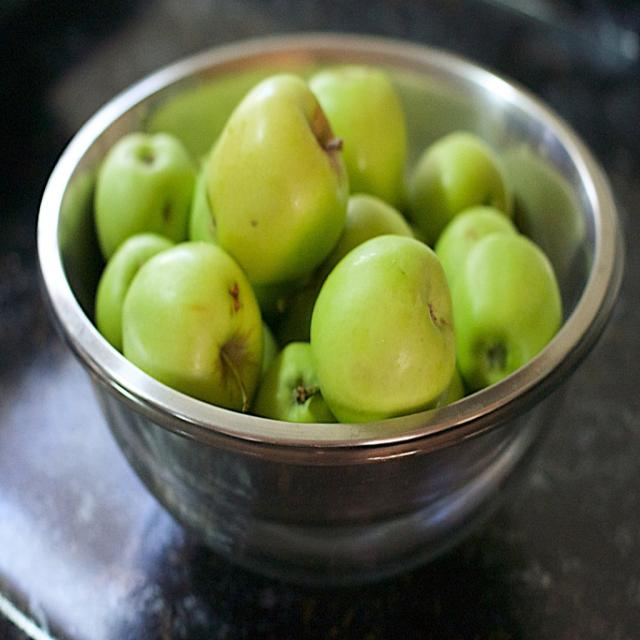Healty Apple: (92, 69, 564, 423), (311, 236, 461, 421), (121, 237, 264, 413)
